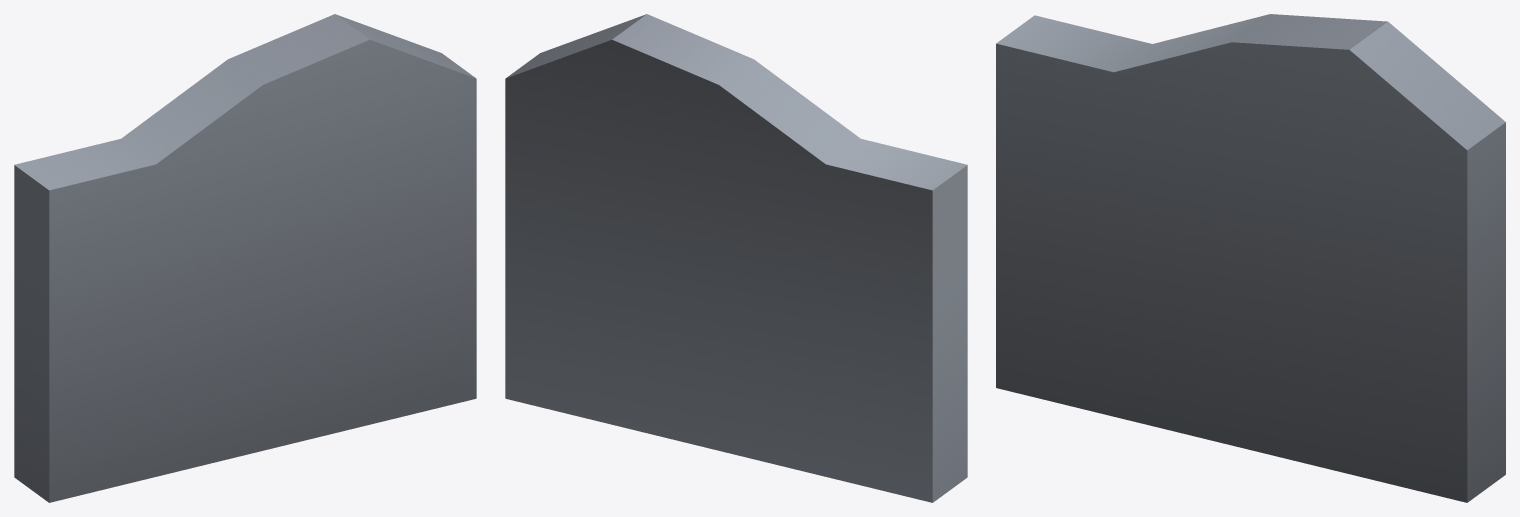
Rendered from Wall_Segement1.fbx.
3 renders of one model, left to right at view 1: azimuth 30°, elevation 25°; view 2: azimuth 150°, elevation 25°; view 3: azimuth 330°, elevation 25°, orthographic. The views are drawn at different scales.
Visible parts, largest first — view 1: Wall_Segement1; view 2: Wall_Segement1; view 3: Wall_Segement1.
Boxes of the visible parts, <box> form: Wall_Segement1: <box>14,14,476,502</box>; Wall_Segement1: <box>505,14,967,502</box>; Wall_Segement1: <box>996,14,1505,502</box>.
Size of the model in its own units: 1.79 by 1.54 by 0.254.
Materials: 1 (1 with a texture image).
